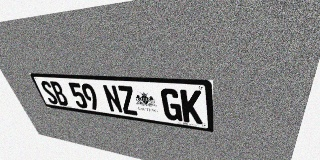5: (68, 82, 89, 109)
9: (80, 83, 101, 111)
B: (49, 81, 70, 106)
G: (160, 88, 183, 122)
K: (180, 89, 203, 124)
N: (102, 84, 124, 114)
S: (39, 81, 60, 105)
Z: (116, 85, 139, 116)
